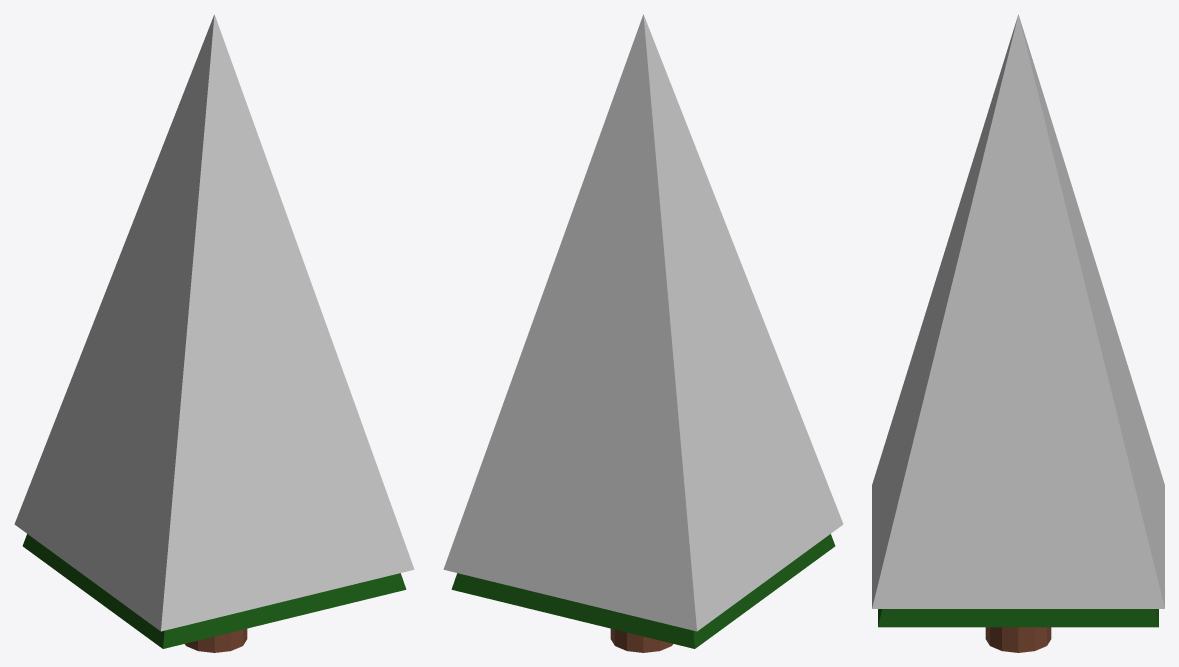
The model's file is Tree_36_winter_mat.fbx.
3 renders of one model, left to right at view 1: azimuth 30°, elevation 25°; view 2: azimuth 150°, elevation 25°; view 3: azimuth 270°, elevation 25°, orthographic.
Visible parts, largest first — view 1: Tree_36_winter_mat; view 2: Tree_36_winter_mat; view 3: Tree_36_winter_mat.
Boxes of the visible parts, x1,y1,x2,y2 form: Tree_36_winter_mat: [14, 14, 414, 652]; Tree_36_winter_mat: [443, 14, 843, 652]; Tree_36_winter_mat: [872, 14, 1164, 652].
Bounding box in the file's own units: 2.88 × 6.78 × 2.88.
